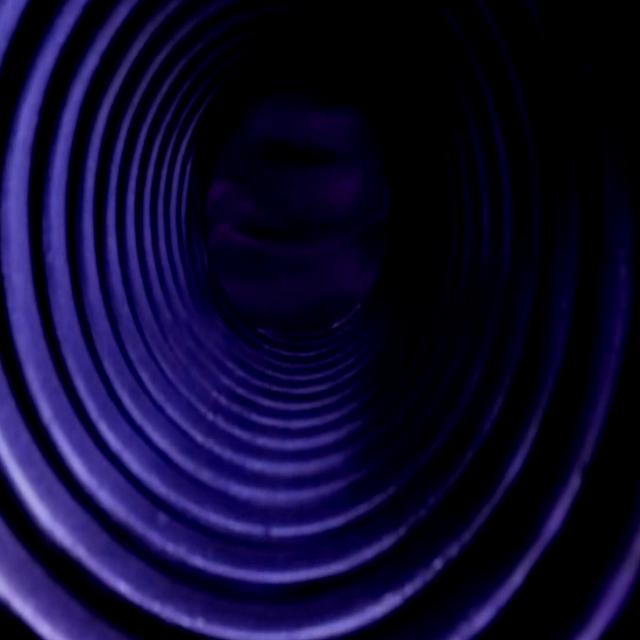block: (212, 106, 390, 318)
